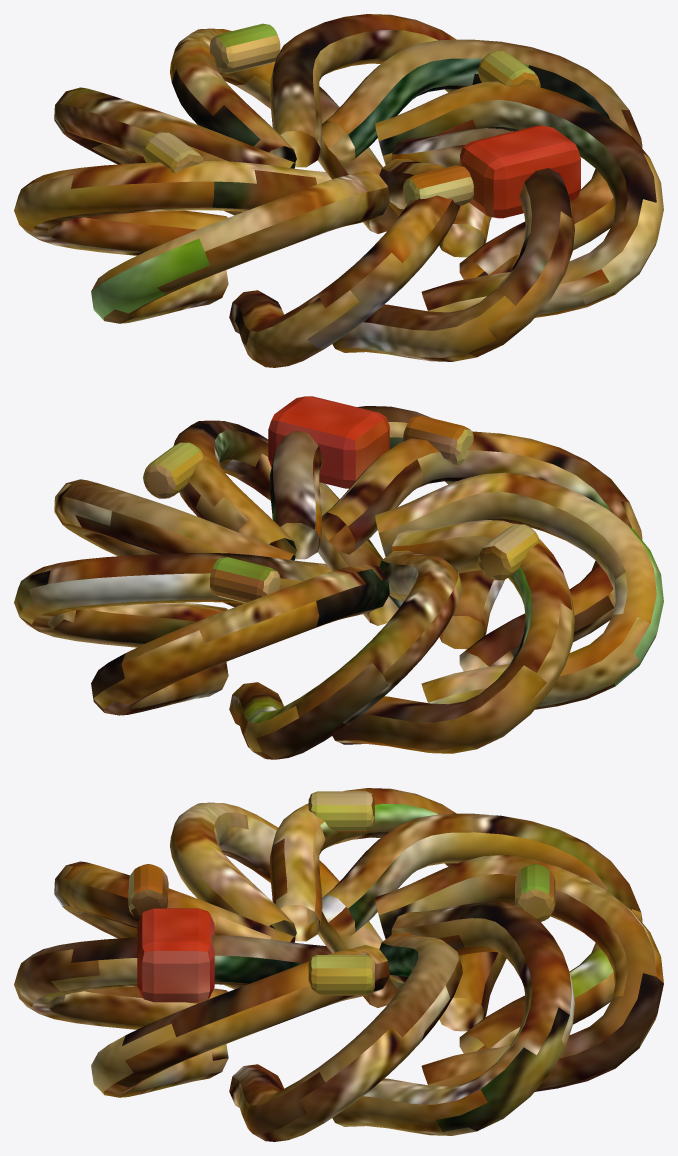
File: Food_mie_goreng.fbx
The picture shows the model from 3 angles, top to bottom: view 1: azimuth 30°, elevation 25°; view 2: azimuth 150°, elevation 25°; view 3: azimuth 270°, elevation 25°; orthographic projection.
Visible parts, largest first — view 1: Food_mie_goreng; view 2: Food_mie_goreng; view 3: Food_mie_goreng.
Boxes of the visible parts, bbox=[...] form: Food_mie_goreng: bbox=[14, 14, 663, 367]; Food_mie_goreng: bbox=[14, 396, 663, 759]; Food_mie_goreng: bbox=[14, 788, 663, 1141].
Size of the model in its own units: 0.1172 by 0.0377 by 0.1176.
